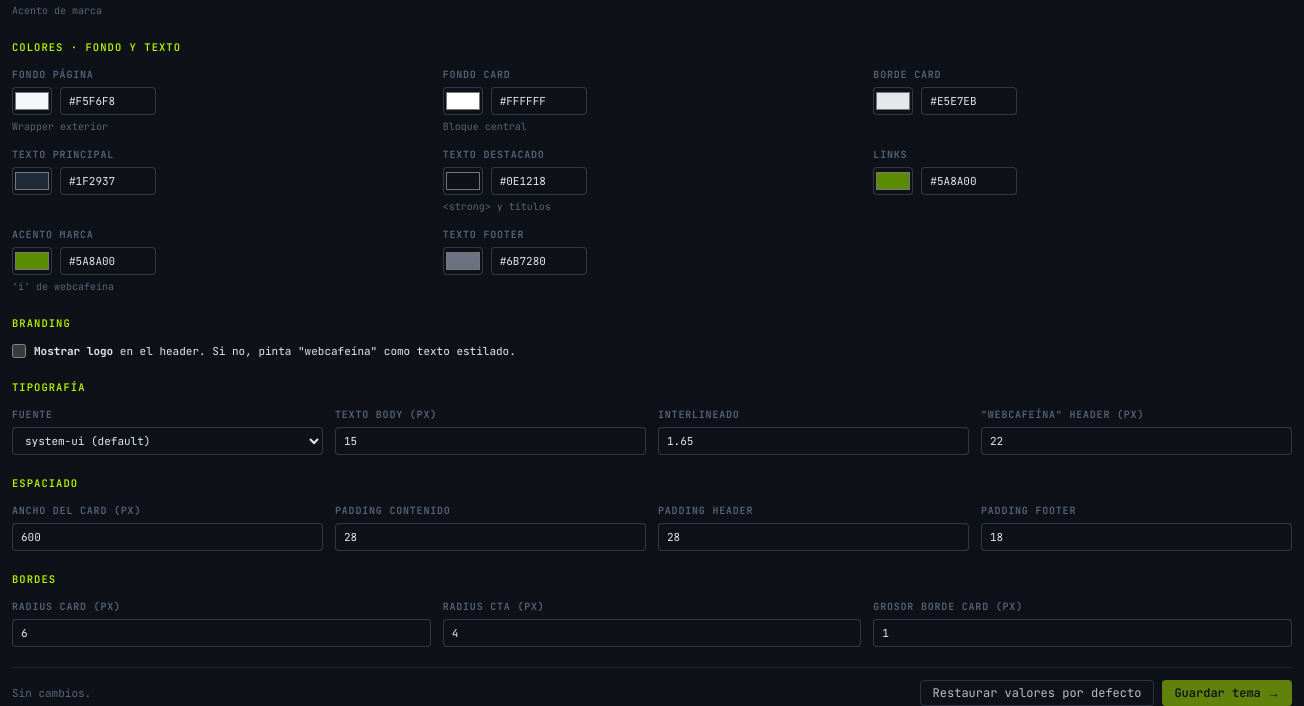
Test: ThemeEditorForm › botón Restaurar valores por defecto resetea el form
The image size is (1304, 706).
(page scrolled)
Click the button "Restaurar valores por defecto" at (1037, 693), box x1=920 y1=680 x2=1154 y2=705
(page scrolled)
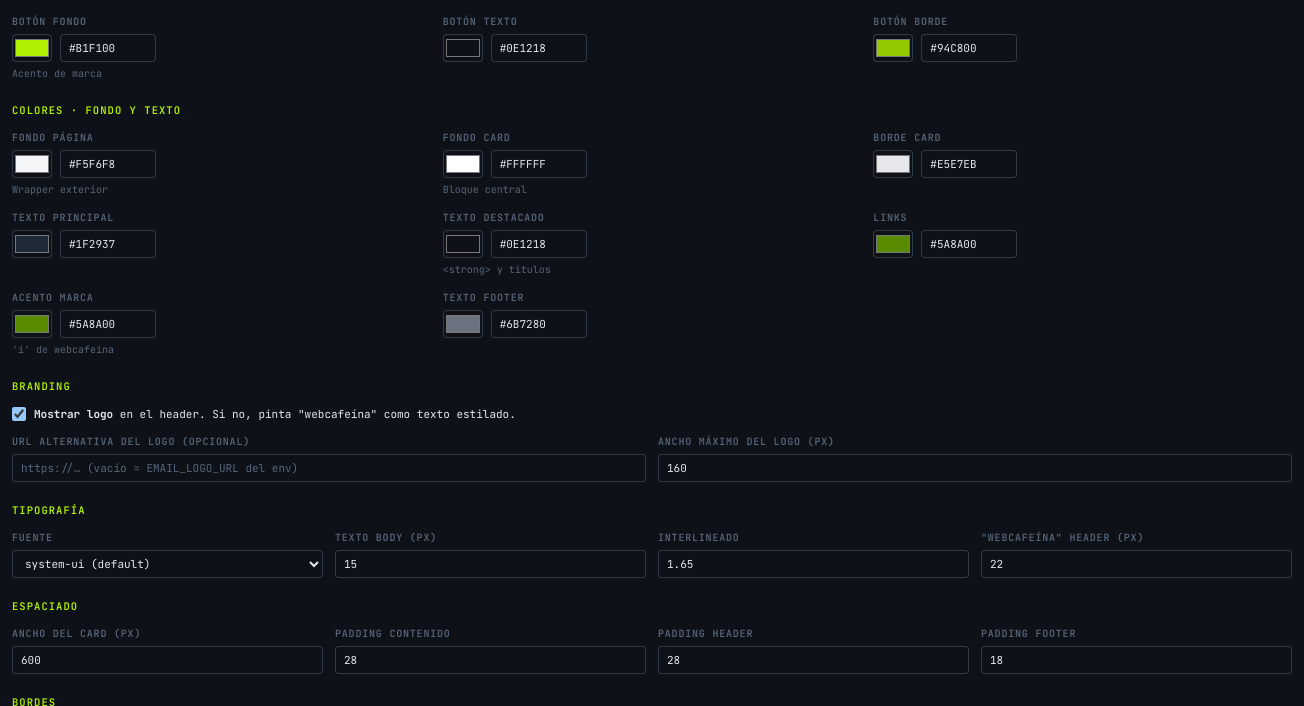
Expected: the field showing "#FF0000" is not shown
Expected: the field showing "#B1F100" is shown, x1=60 y1=34 x2=156 y2=62
